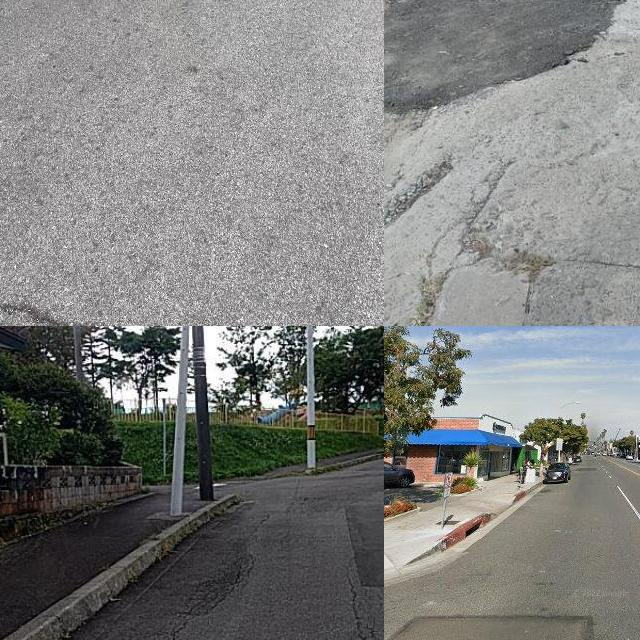Sambungan: (384, 0, 618, 117), (389, 617, 591, 640), (351, 499, 384, 582)
